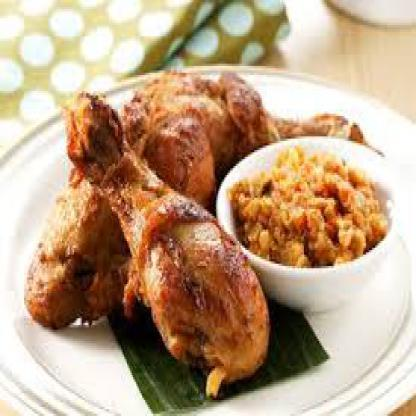ayam_goreng: (65, 86, 268, 389), (24, 114, 212, 330), (124, 71, 365, 175)
